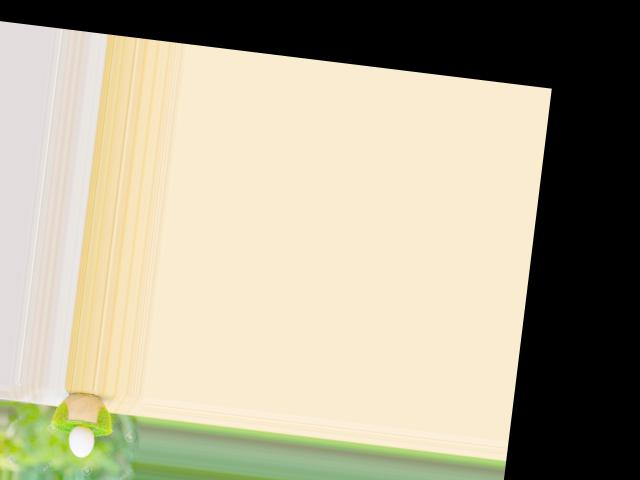egg: (65, 423, 95, 457)
